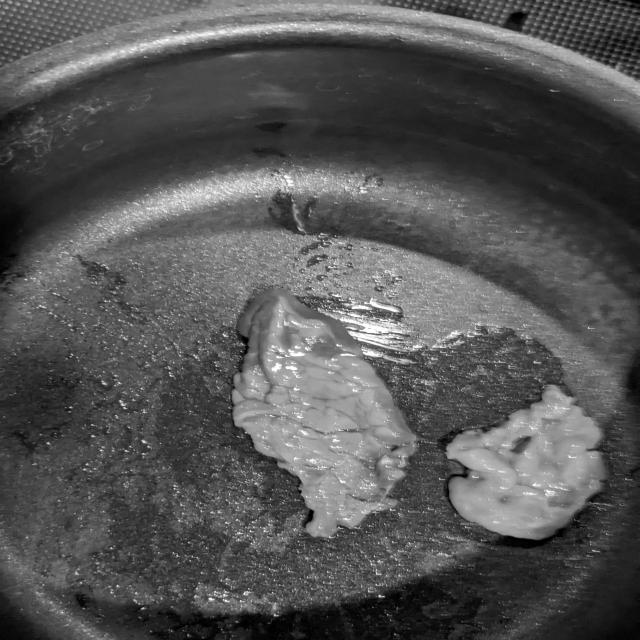NG undercooked beef,: (220, 269, 433, 545), (436, 374, 622, 549)
